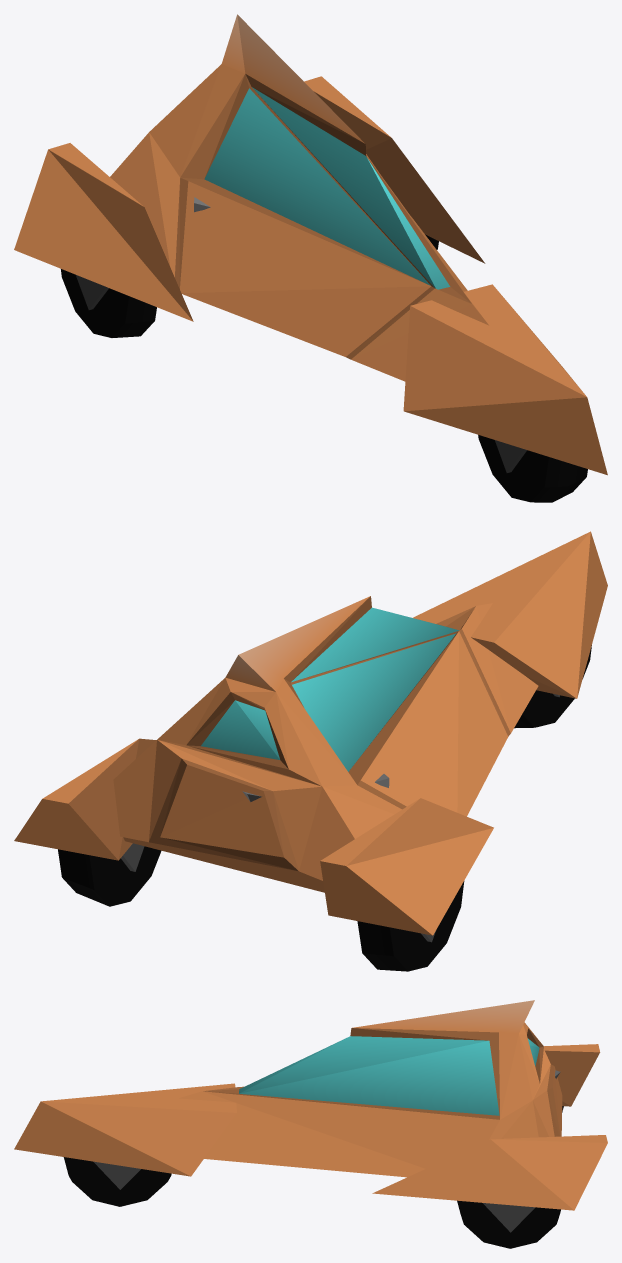
The model's file is c_car_triangle_ad.fbx.
The picture shows the model from 3 angles, top to bottom: view 1: azimuth 30°, elevation 25°; view 2: azimuth 150°, elevation 25°; view 3: azimuth 270°, elevation 25°; orthographic projection. The views are drawn at different scales.
Visible parts, largest first — view 1: c_car_triangle_ad; view 2: c_car_triangle_ad; view 3: c_car_triangle_ad.
Part boxes in pixels (x1,y1,x2,y2): c_car_triangle_ad: [14, 14, 607, 502]; c_car_triangle_ad: [14, 531, 607, 971]; c_car_triangle_ad: [14, 1000, 607, 1248].
Size of the model in its own units: 3.08 by 2.09 by 5.64.
